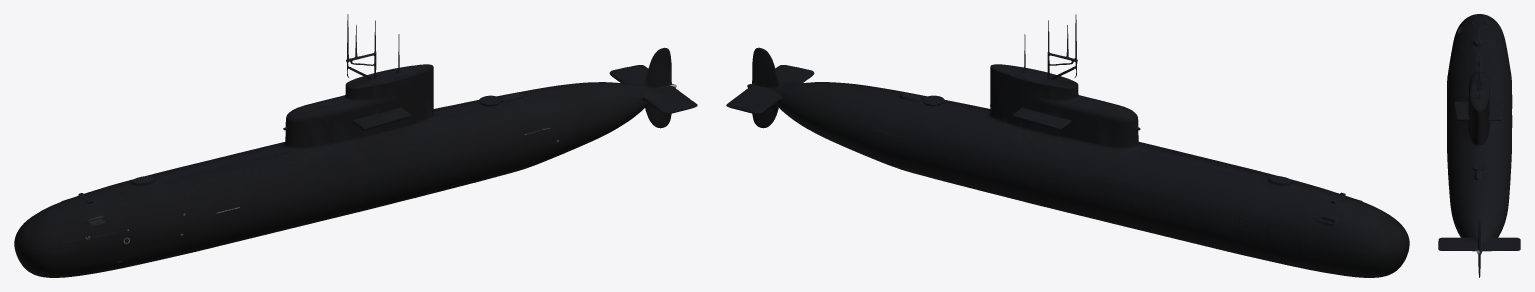
Rendered from submarine.glb.
3 views of the same model, side by side, from view 1: azimuth 30°, elevation 25°; view 2: azimuth 150°, elevation 25°; view 3: azimuth 270°, elevation 25° (orthographic). The views are drawn at different scales.
Size of the model in its own units: 1.9 by 0.5312 by 0.2857.
Materials: 1 (1 with a texture image).
